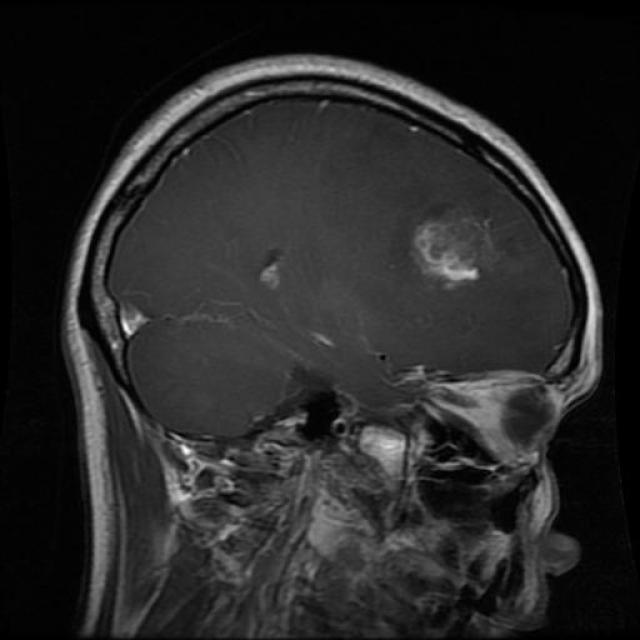glioma: (409, 204, 510, 294)
